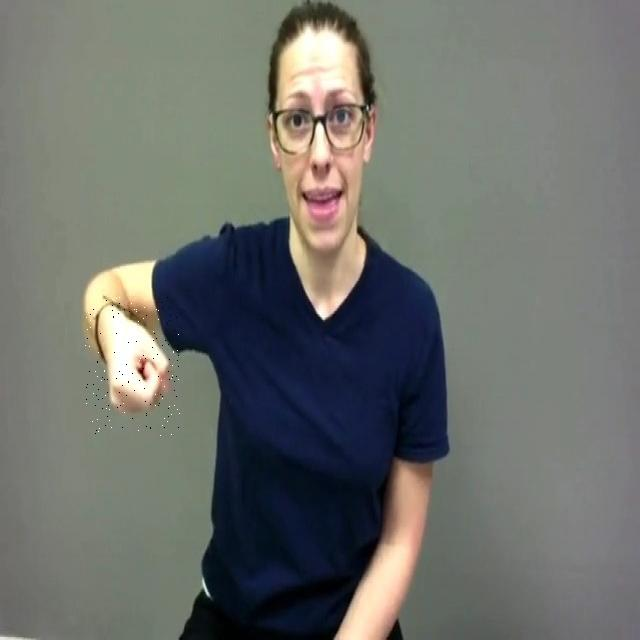bag: (84, 296, 180, 436)
